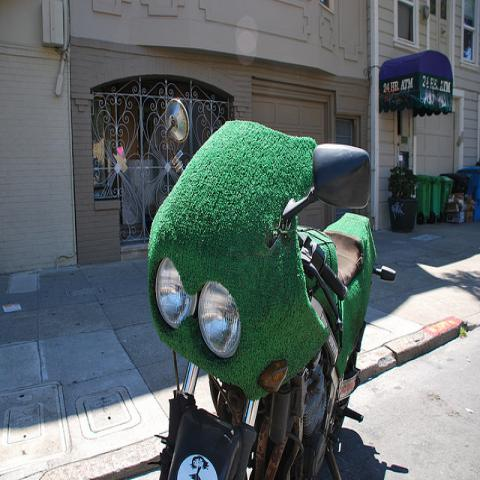motorcycle: (146, 97, 397, 479)
